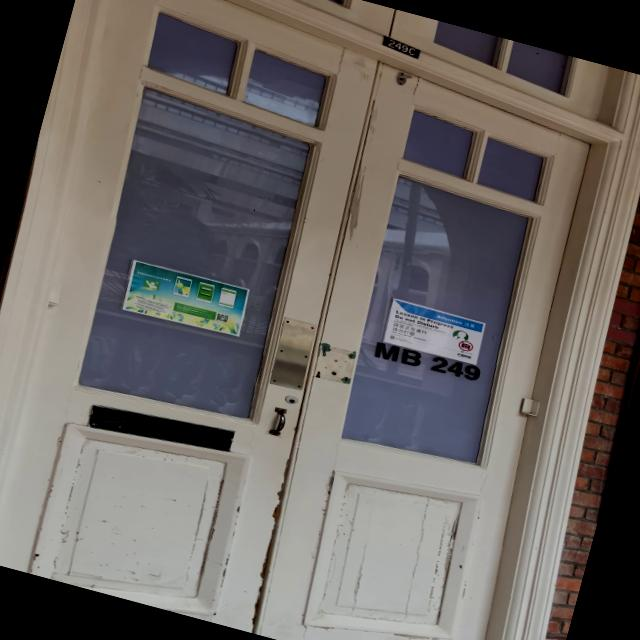room249c: (374, 31, 425, 62)
room249cWindow: (369, 338, 488, 387)
